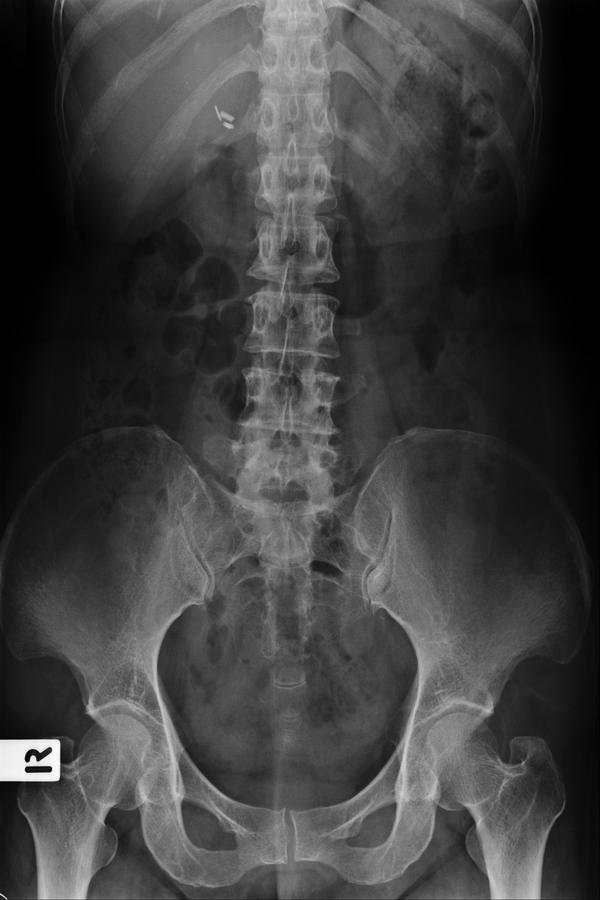lumbar scoliosis: (231, 137, 337, 517)
